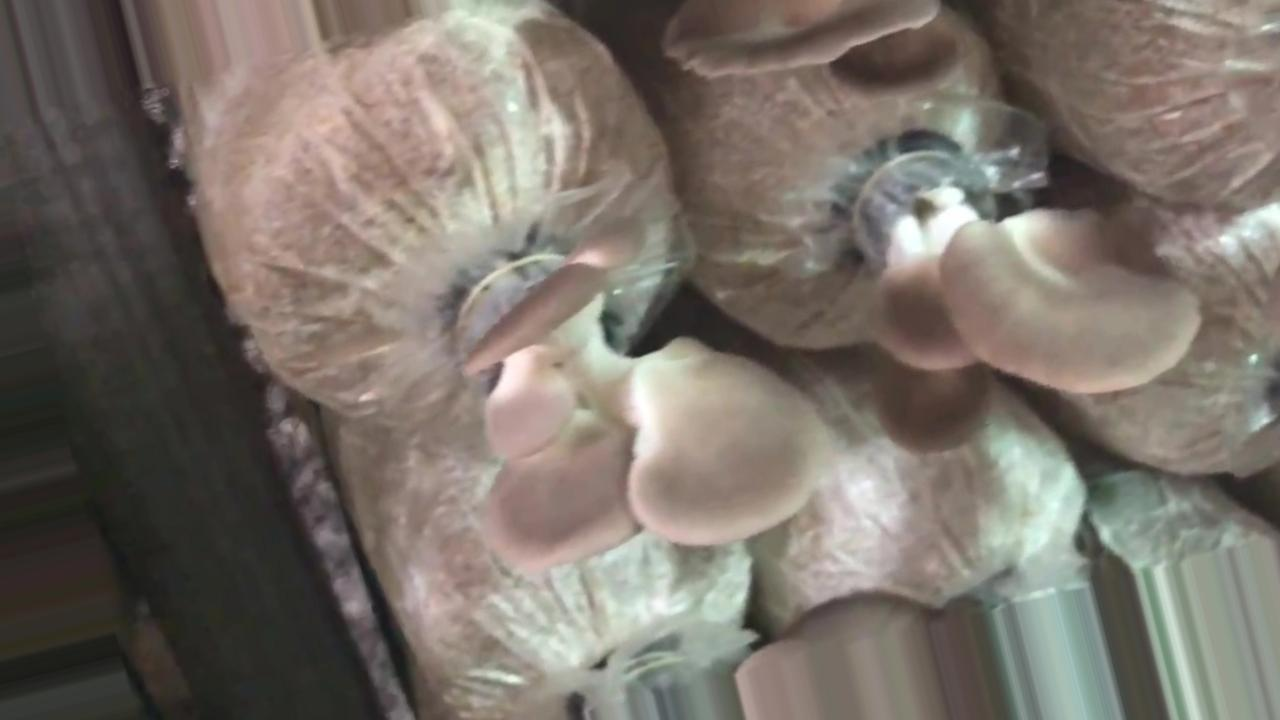nam: (474, 245, 828, 571), (866, 149, 1199, 462)
